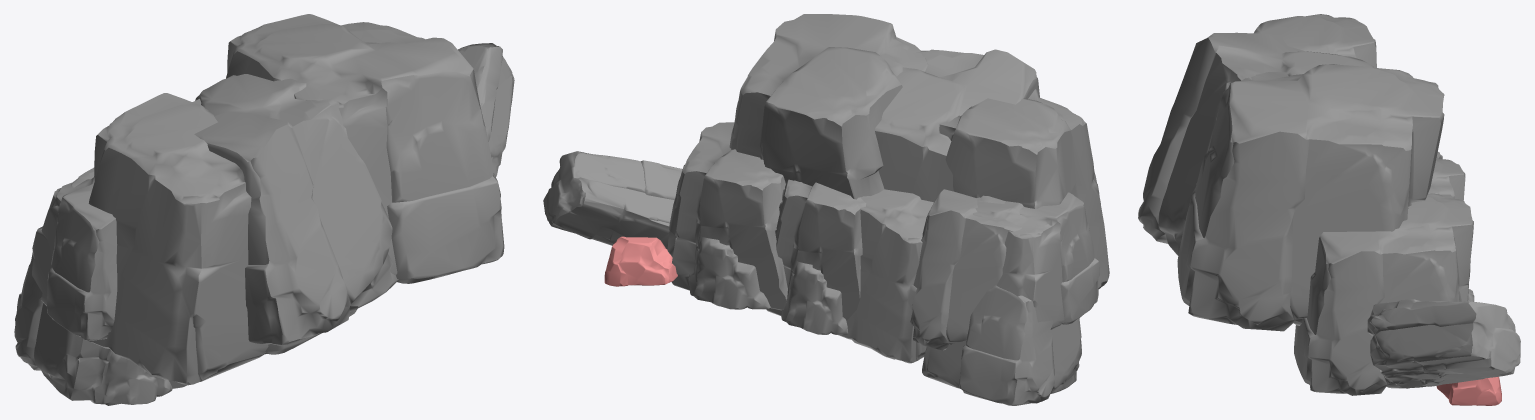
File: S_Envi_FZFBase_Stone_06b.gltf
3 renders of one model, left to right at view 1: azimuth 30°, elevation 25°; view 2: azimuth 150°, elevation 25°; view 3: azimuth 270°, elevation 25°, orthographic. The views are drawn at different scales.
Parts seen in each view (by area): view 1: S_Envi_FZFBase_Stone_06b; view 2: S_Envi_FZFBase_Stone_06b; view 3: S_Envi_FZFBase_Stone_06b.
Part boxes in pixels (left/top/right/bottom): S_Envi_FZFBase_Stone_06b: left=14, top=14, right=514, bottom=405; S_Envi_FZFBase_Stone_06b: left=543, top=14, right=1109, bottom=405; S_Envi_FZFBase_Stone_06b: left=1138, top=14, right=1520, bottom=405.
Bounding box in the file's own units: 47.35 × 26.13 × 30.2.
